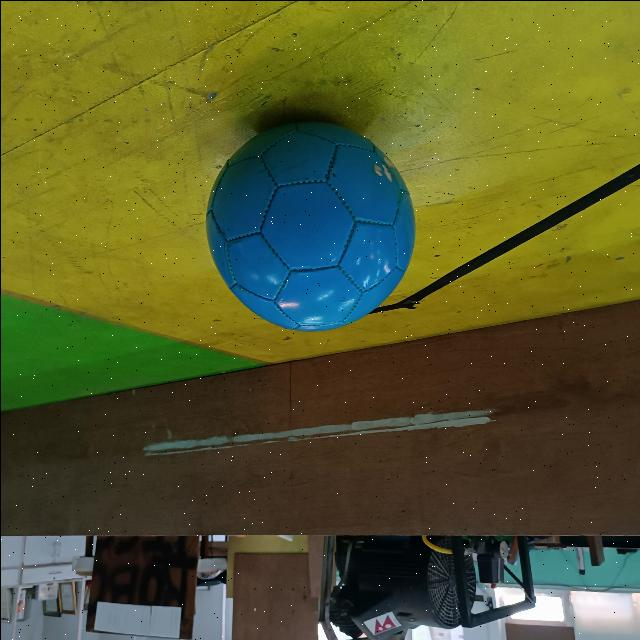B: (199, 116, 421, 337)
